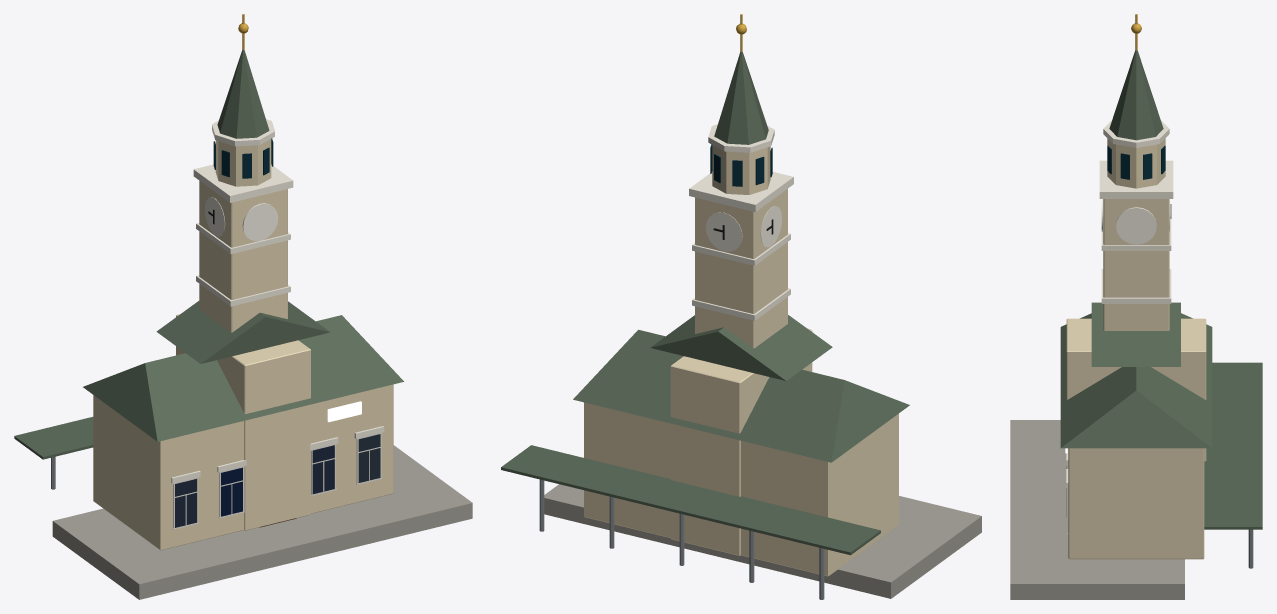
File: station.glb
The picture shows the model from 3 angles, left to right: view 1: azimuth 30°, elevation 25°; view 2: azimuth 150°, elevation 25°; view 3: azimuth 270°, elevation 25°; orthographic projection. The views are drawn at different scales.
Visible parts, largest first — view 1: station; view 2: station; view 3: station.
Part boxes in pixels (box(x1,y1,x2,y2)): station: box(14, 14, 472, 599); station: box(501, 14, 981, 599); station: box(1010, 14, 1262, 599).
Size of the model in its own units: 20 by 28.6 by 13.
